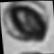correct: (0, 0, 50, 49)
